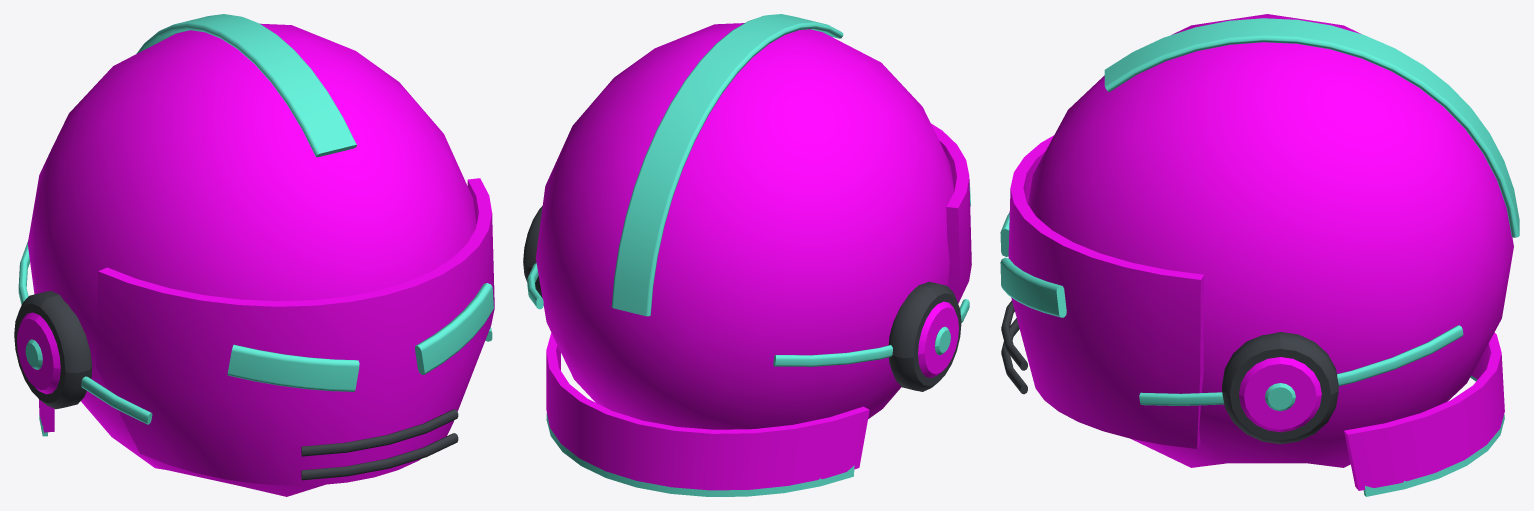
File: porte_armure5_casque.glb
3 renders of one model, left to right at view 1: azimuth 30°, elevation 25°; view 2: azimuth 150°, elevation 25°; view 3: azimuth 270°, elevation 25°, orthographic. The views are drawn at different scales.
Visible parts, largest first — view 1: tete__casque_teinte.002, tete__casque_nano_lueur.002, tete__casque_teinte_sombre.002; view 2: tete__casque_teinte.002, tete__casque_nano_lueur.002, tete__casque_teinte_sombre.002; view 3: tete__casque_teinte.002, tete__casque_nano_lueur.002, tete__casque_teinte_sombre.002.
Boxes of the visible parts, left/top/right/bottom form: tete__casque_teinte.002: left=17, top=23, right=494, bottom=496; tete__casque_nano_lueur.002: left=18, top=14, right=493, bottom=436; tete__casque_teinte_sombre.002: left=14, top=291, right=458, bottom=480; tete__casque_teinte.002: left=535, top=23, right=971, bottom=490; tete__casque_nano_lueur.002: left=527, top=14, right=970, bottom=496; tete__casque_teinte_sombre.002: left=523, top=206, right=961, bottom=391; tete__casque_teinte.002: left=1008, top=14, right=1513, bottom=490; tete__casque_nano_lueur.002: left=1000, top=18, right=1519, bottom=496; tete__casque_teinte_sombre.002: left=1001, top=300, right=1338, bottom=444.
Size of the model in its own units: 0.382 by 0.3418 by 0.4.
